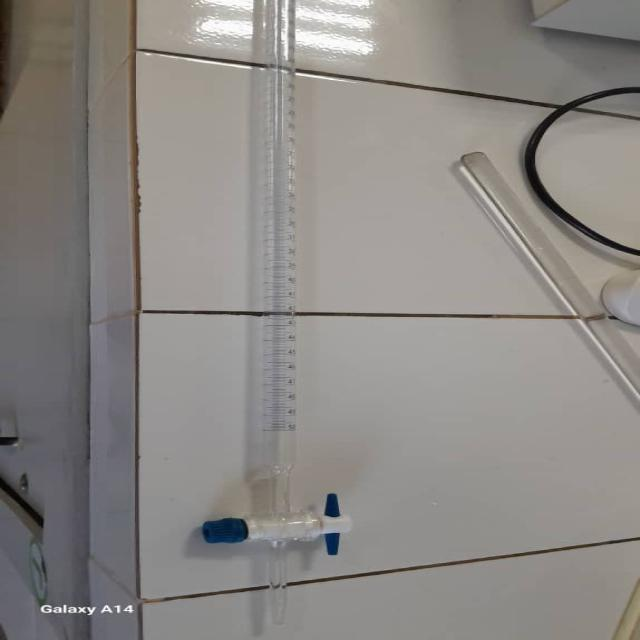Biurette: (193, 18, 372, 634)
